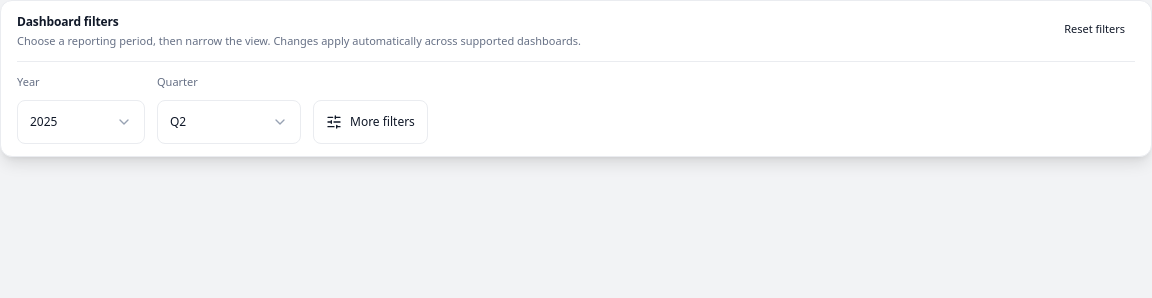
GlobalFilterBar › year/quarter tie › rebuilds the period value when the quarter changes, keeping the year
The image size is (1152, 298).
Click the dropdown named "Quarter": (229, 122) [157,100,301,144]
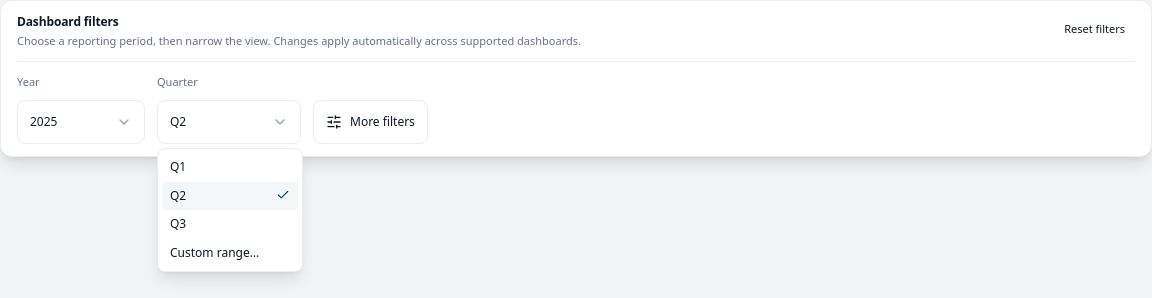
Click the option "Q1": (178, 166) [170,158,186,175]
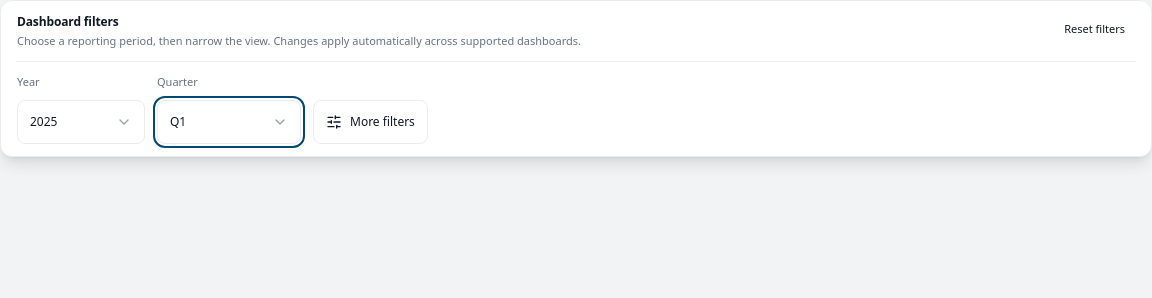
Expected: the dropdown named "Year" reads "2025", [17,100,145,144]
Expected: the dropdown named "Quarter" reads "Q1", [157,100,301,144]
